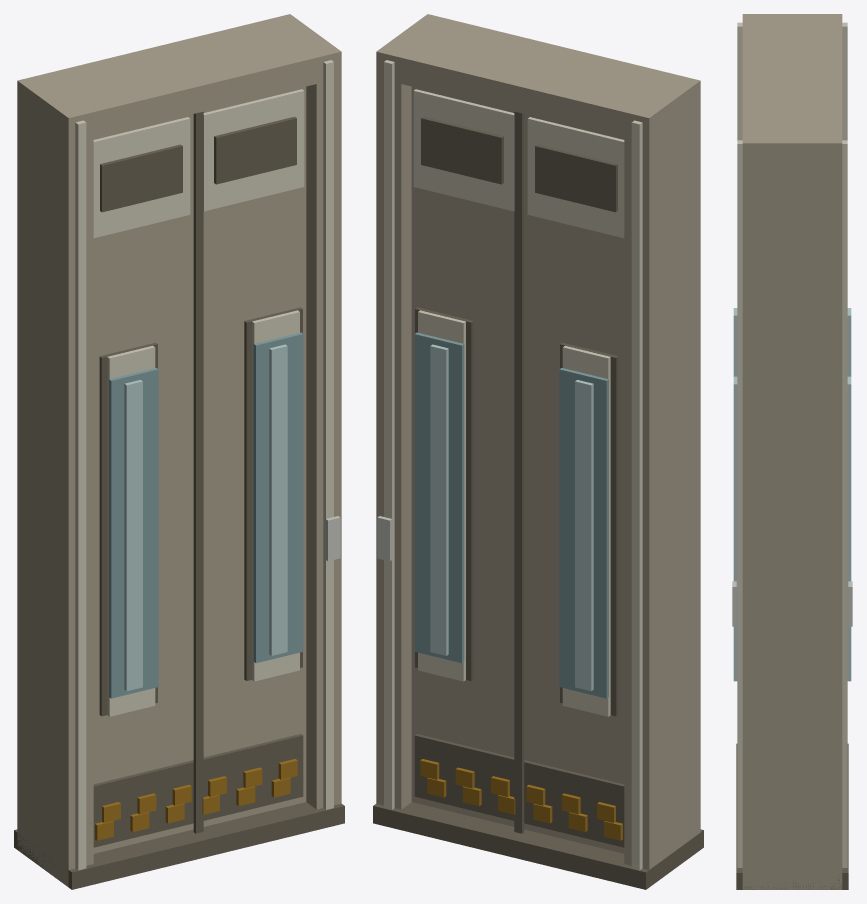
File: CMU3DSingleMediDoorGlass.glb
3 renders of one model, left to right at view 1: azimuth 30°, elevation 25°; view 2: azimuth 150°, elevation 25°; view 3: azimuth 270°, elevation 25°, orthographic. The views are drawn at different scales.
Visible parts, largest first — view 1: door jamb (×2), closed leaf body, glass port (×2), header, jamb raised edge (×2), upper inset band (×2), glass reflection (×2), lower hazard backing, threshold, upper dark inset (×2), leaf meeting seam, window dark surround (×2) (+2 smaller); view 2: closed leaf body, door jamb (×2), glass port back (×2), header, jamb raised edge (×2), upper inset band back (×2), glass reflection back (×2), lower hazard backing back, threshold, upper dark inset back (×2), leaf meeting seam back, window dark surround back (×2) (+2 smaller); view 3: door jamb (×2), header, jamb raised edge (×4), glass reflection (×2), glass reflection back (×2), threshold.
Part boxes in pixels (<box>): door jamb (×2): <box>17,14,341,887</box>; closed leaf body: <box>93,86,306,853</box>; glass port (×2): <box>109,332,303,698</box>; header: <box>17,14,341,144</box>; jamb raised edge (×2): <box>75,60,333,870</box>; upper inset band (×2): <box>93,89,304,238</box>; glass reflection (×2): <box>124,344,287,691</box>; lower hazard backing: <box>93,734,303,847</box>; threshold: <box>14,802,344,889</box>; upper dark inset (×2): <box>100,116,296,212</box>; leaf meeting seam: <box>193,111,203,833</box>; window dark surround (×2): <box>99,307,302,716</box>; closed leaf body: <box>411,86,624,853</box>; door jamb (×2): <box>376,14,700,869</box>; glass port back (×2): <box>414,332,608,698</box>; header: <box>376,14,700,144</box>; jamb raised edge (×2): <box>384,60,642,870</box>; upper inset band back (×2): <box>413,89,624,238</box>; glass reflection back (×2): <box>430,344,593,691</box>; lower hazard backing back: <box>414,734,624,847</box>; threshold: <box>373,802,703,889</box>; upper dark inset back (×2): <box>421,116,617,212</box>; leaf meeting seam back: <box>514,111,524,833</box>; window dark surround back (×2): <box>415,307,618,716</box>; door jamb (×2): <box>742,14,842,889</box>; header: <box>742,14,842,168</box>; jamb raised edge (×4): <box>737,22,847,867</box>; glass reflection (×2): <box>733,308,737,681</box>; glass reflection back (×2): <box>847,308,851,681</box>; threshold: <box>736,743,848,889</box>.
Bounding box in the file's own units: 0.98 × 2.64 × 0.386.
